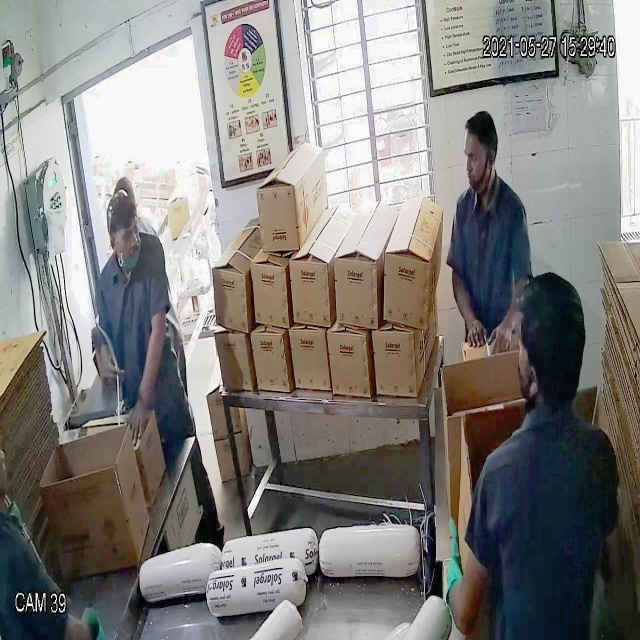Sin_gafas: (102, 217, 145, 251), (461, 142, 494, 171)
